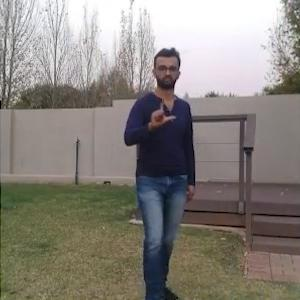land_hand: (145, 97, 176, 129)
